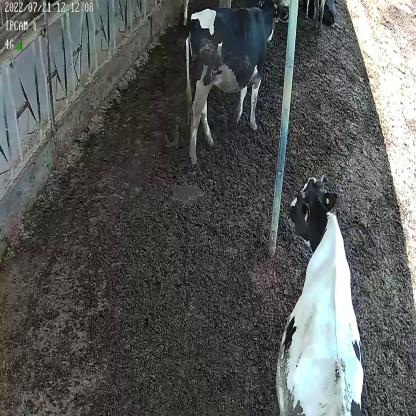cow: (274, 173, 364, 416), (182, 0, 278, 166)
